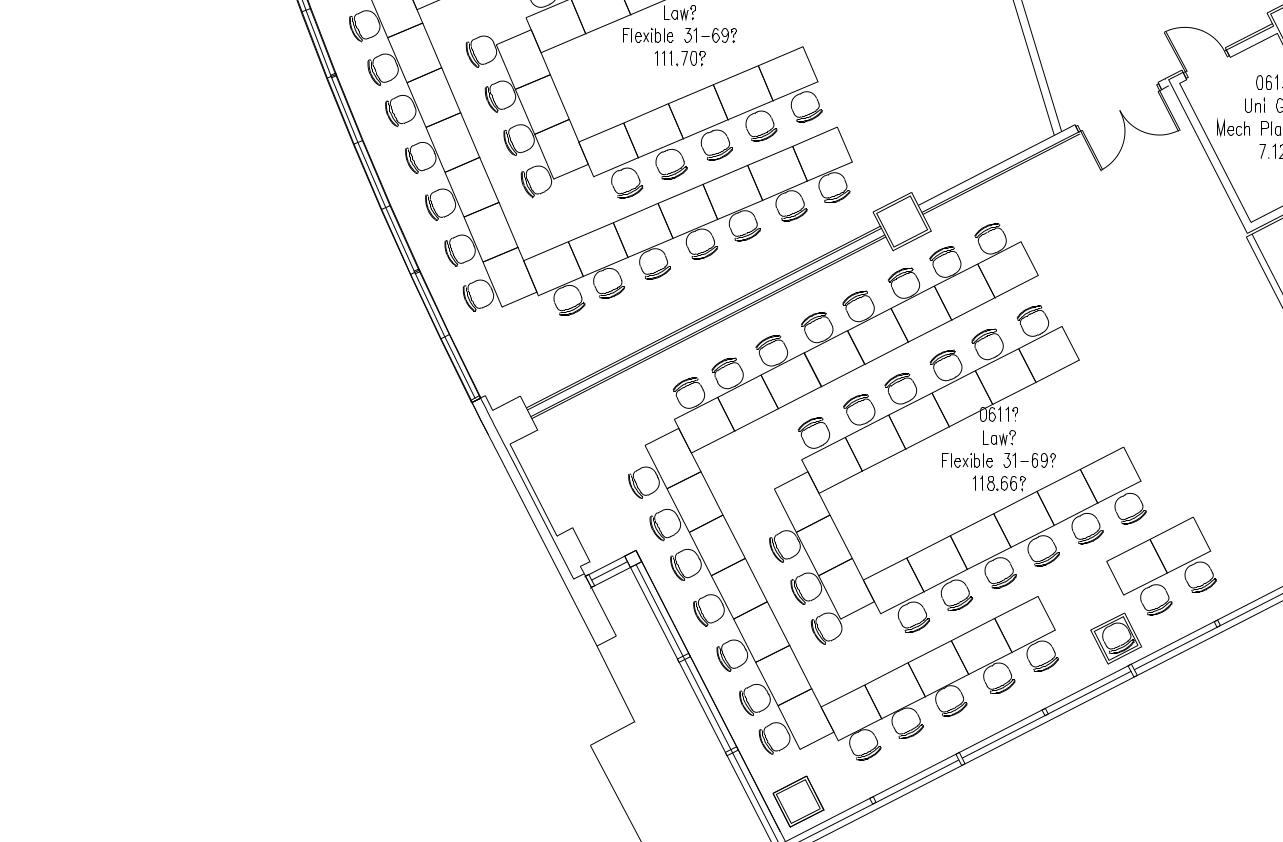door: (1162, 14, 1233, 84), (1116, 80, 1181, 144), (1079, 110, 1129, 178)
